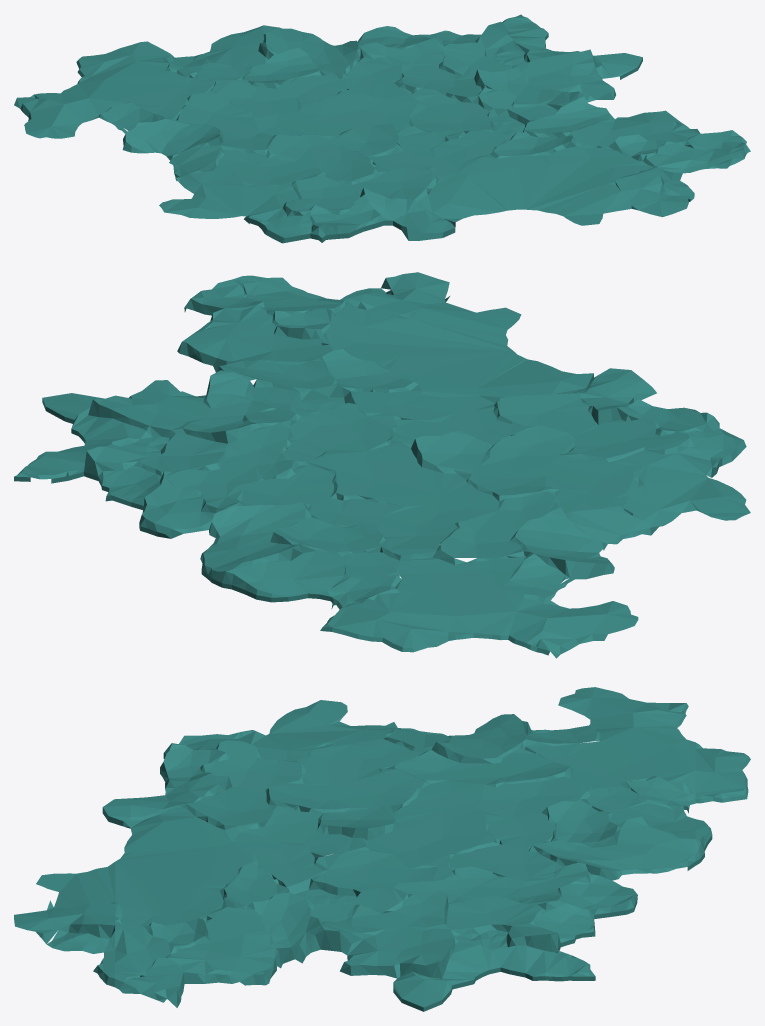
File: SM_Ground_Dirt_Cracked.fbx
3 views of the same model, one above another, from view 1: azimuth 30°, elevation 25°; view 2: azimuth 150°, elevation 25°; view 3: azimuth 270°, elevation 25° (orthographic). The views are drawn at different scales.
Parts seen in each view (by area): view 1: ground-dirt-cracked; view 2: ground-dirt-cracked; view 3: ground-dirt-cracked.
Part boxes in pixels (bbox=[...]): ground-dirt-cracked: bbox=[14, 14, 750, 243]; ground-dirt-cracked: bbox=[14, 272, 750, 658]; ground-dirt-cracked: bbox=[14, 687, 750, 1011].
Size of the model in its own units: 11.61 by 0.5033 by 11.44.
